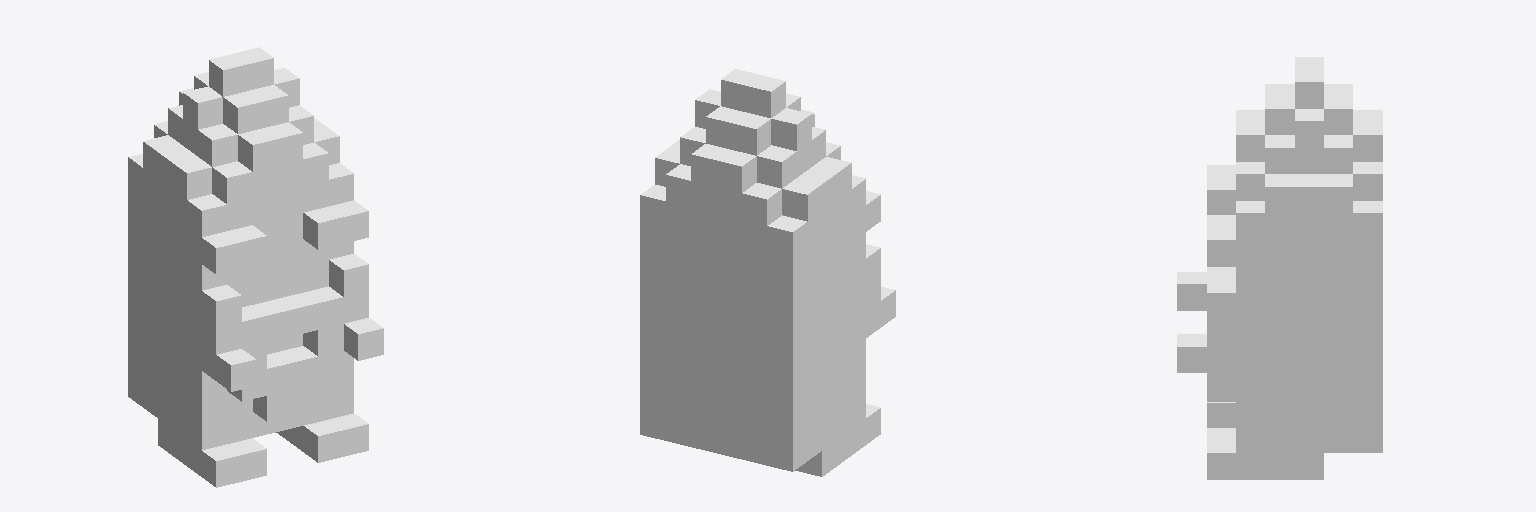
File: misc:nome.obj
3 renders of one model, left to right at view 1: azimuth 30°, elevation 25°; view 2: azimuth 150°, elevation 25°; view 3: azimuth 270°, elevation 25°, orthographic.
Visible parts, largest first — view 1: misc:nome; view 2: misc:nome; view 3: misc:nome.
Part boxes in pixels (x1,y1,x2,y2): misc:nome: (128,47,383,487); misc:nome: (640,69,895,476); misc:nome: (1177,57,1382,479).
Bounding box in the file's own units: 6 × 14 × 7.